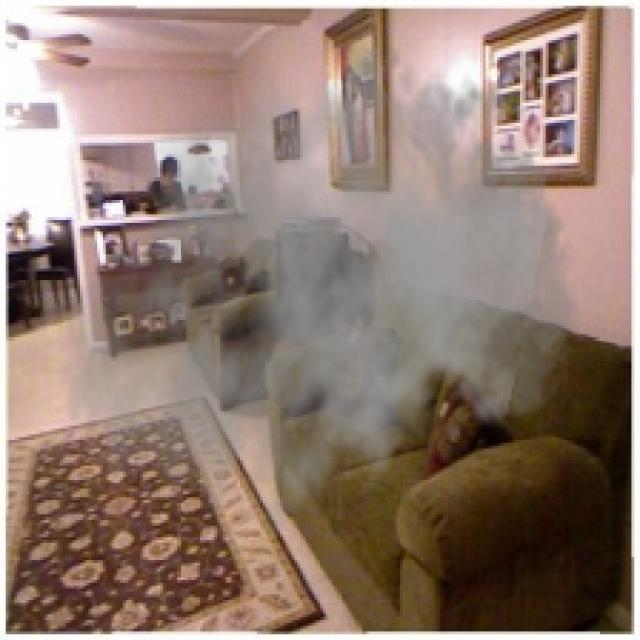Smoke: (57, 22, 589, 558)
